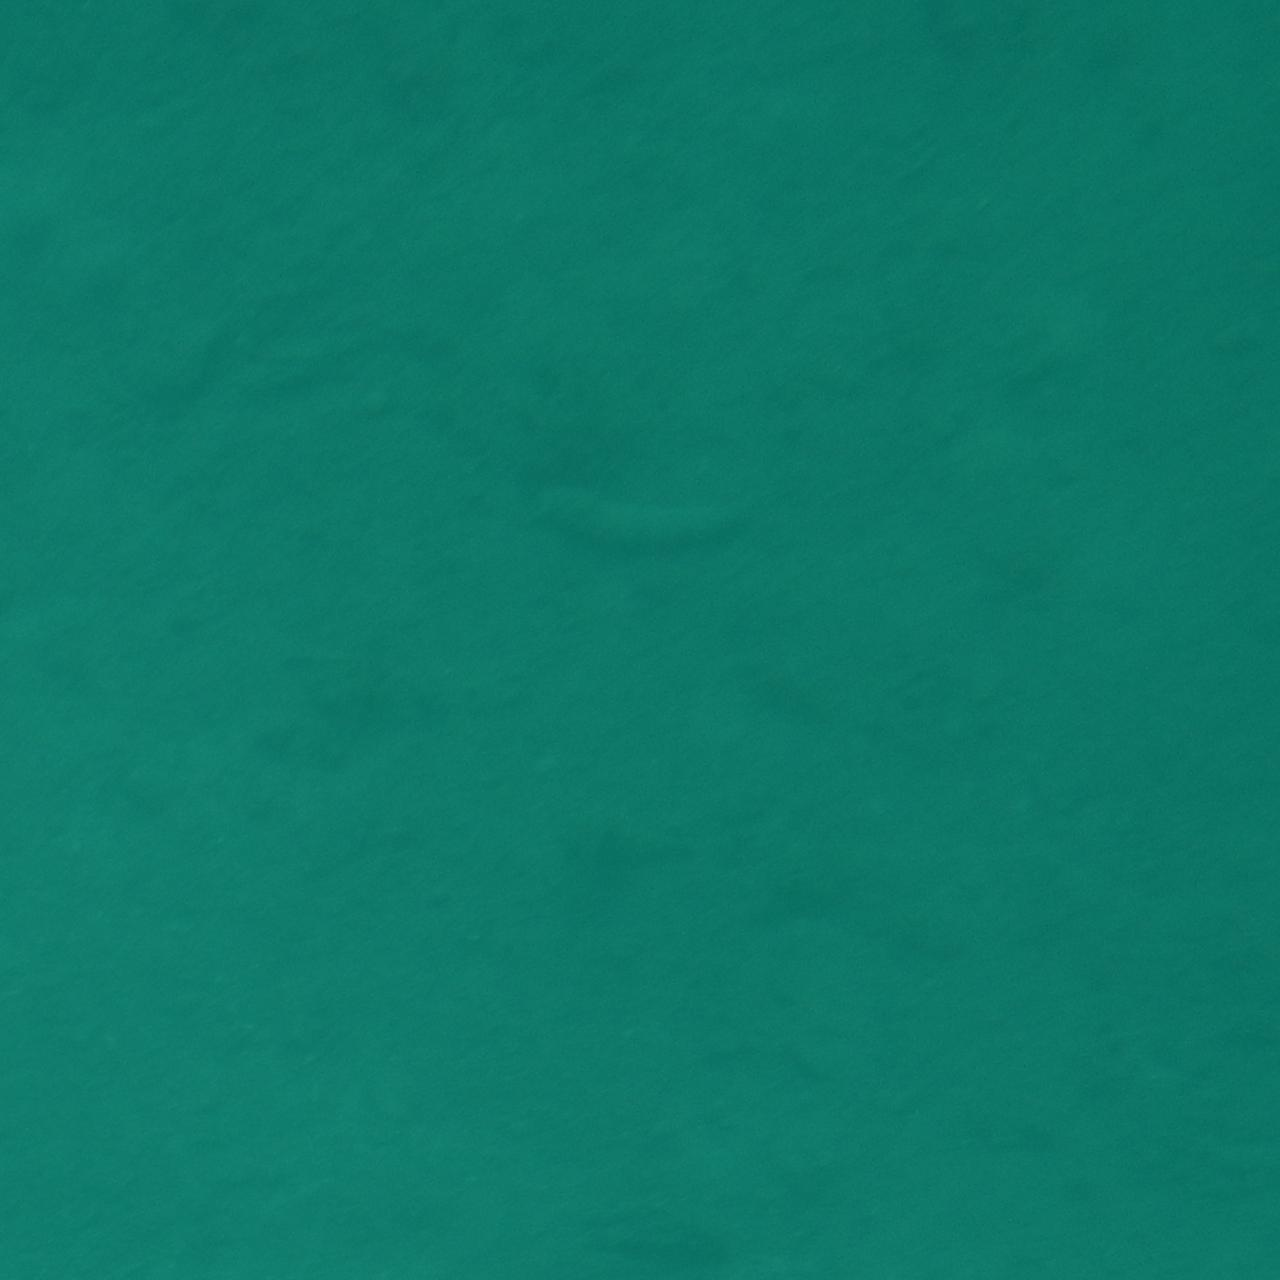Holothuria tubulosa: (494, 481, 786, 575)
